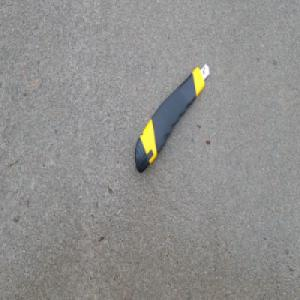Cutter: (134, 60, 211, 174)
